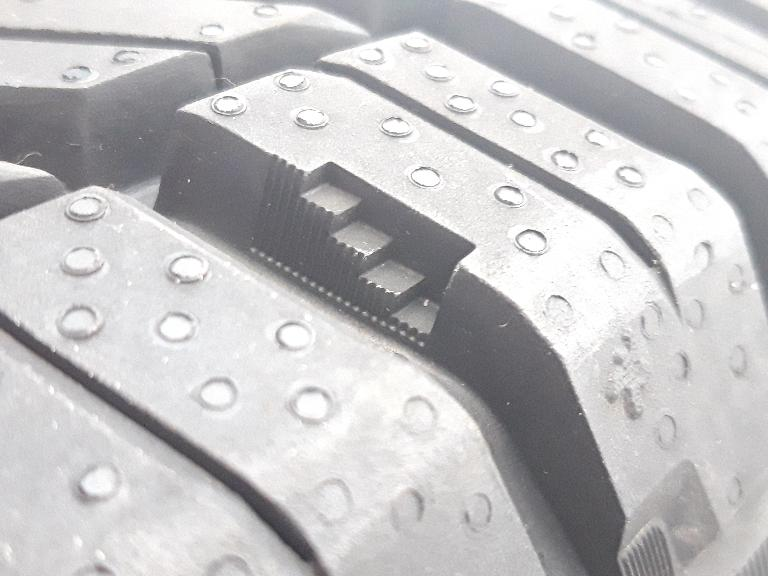temoin:100: (248, 140, 482, 355)
